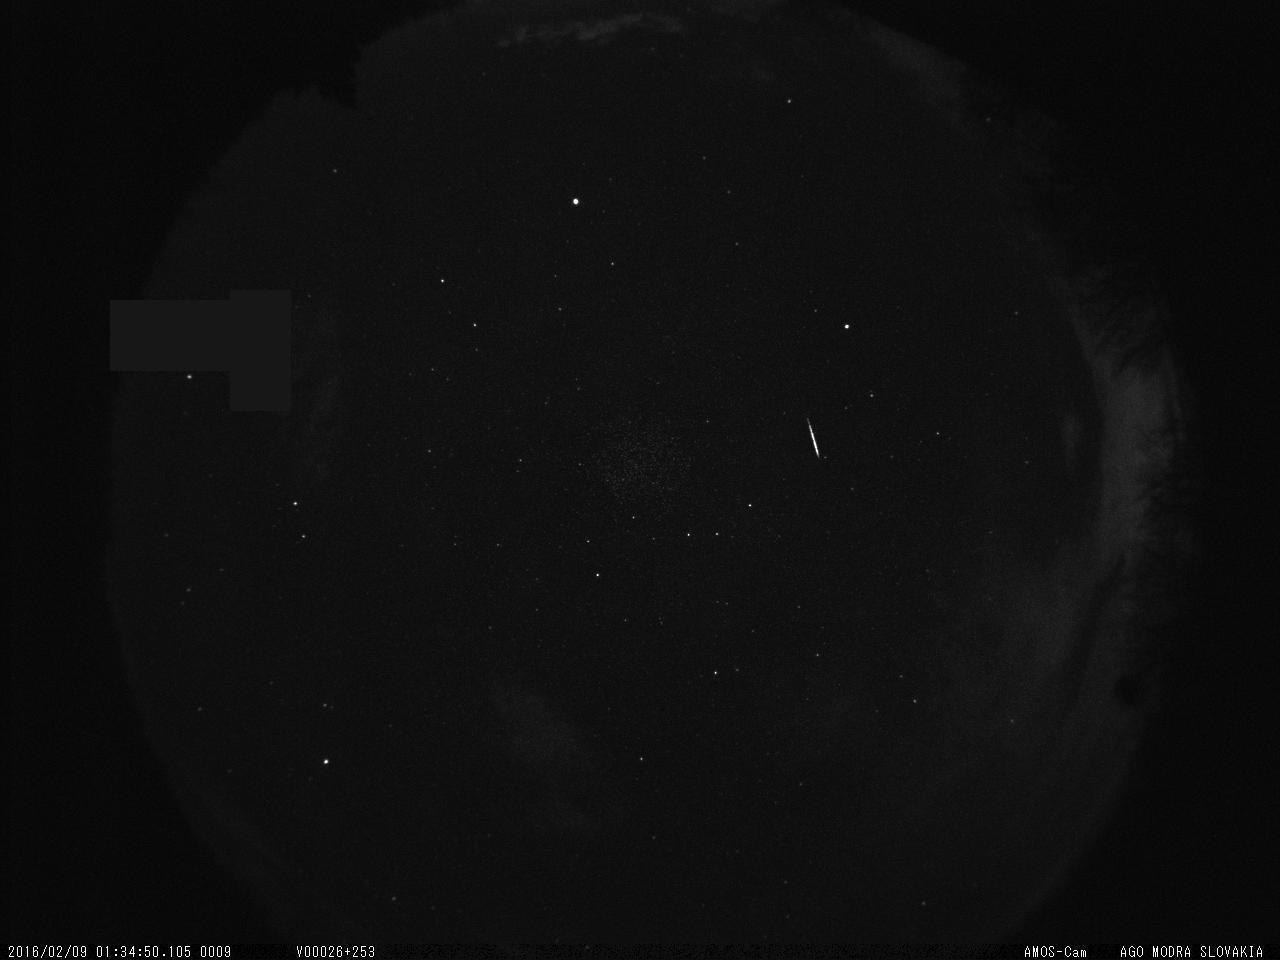Meteor: (800, 409, 827, 471)
